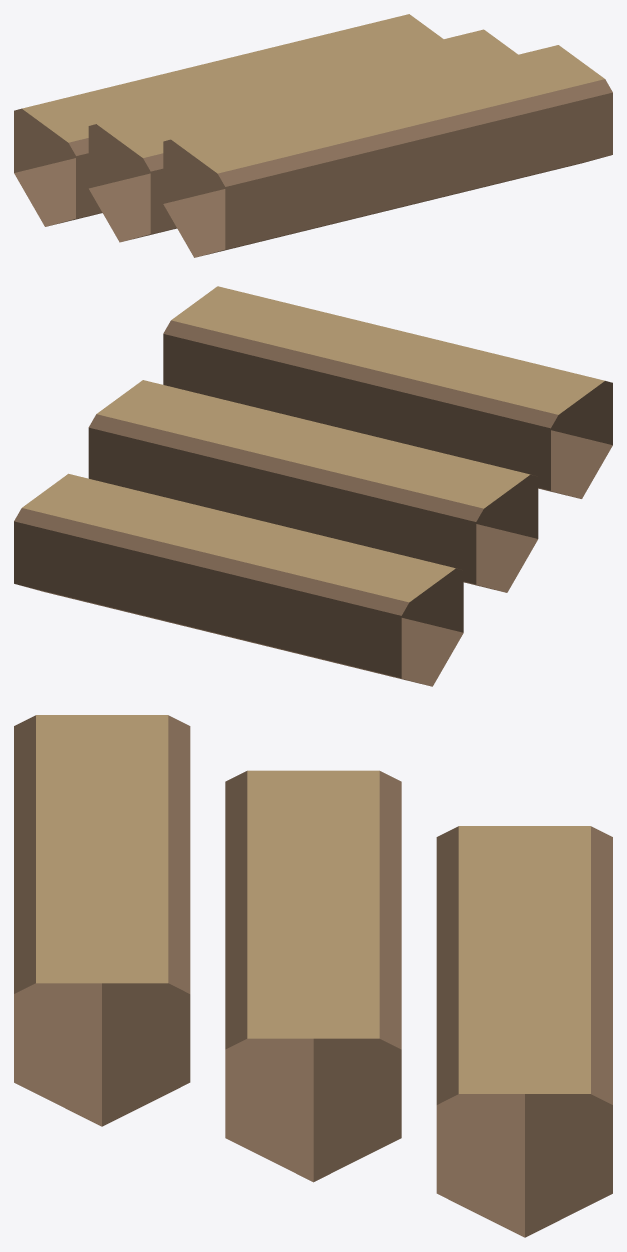
File: Hilly_Prop_Bridge_Log_End.obj
3 views of the same model, one above another, from view 1: azimuth 30°, elevation 25°; view 2: azimuth 150°, elevation 25°; view 3: azimuth 270°, elevation 25° (orthographic). The views are drawn at different scales.
Parts seen in each view (by area): view 1: object1, object3, object2; view 2: object2, object3, object1; view 3: object3, object1, object2.
Part boxes in pixels (x1,y1,x2,y2): object1: [163, 45, 612, 257]; object3: [88, 29, 517, 242]; object2: [14, 14, 443, 226]; object2: [14, 473, 463, 686]; object3: [88, 380, 538, 592]; object1: [163, 286, 612, 498]; object3: [225, 770, 401, 1182]; object1: [14, 715, 190, 1126]; object2: [436, 826, 612, 1237].
Bounding box in the file's own units: 1 × 0.4431 × 0.9444.
